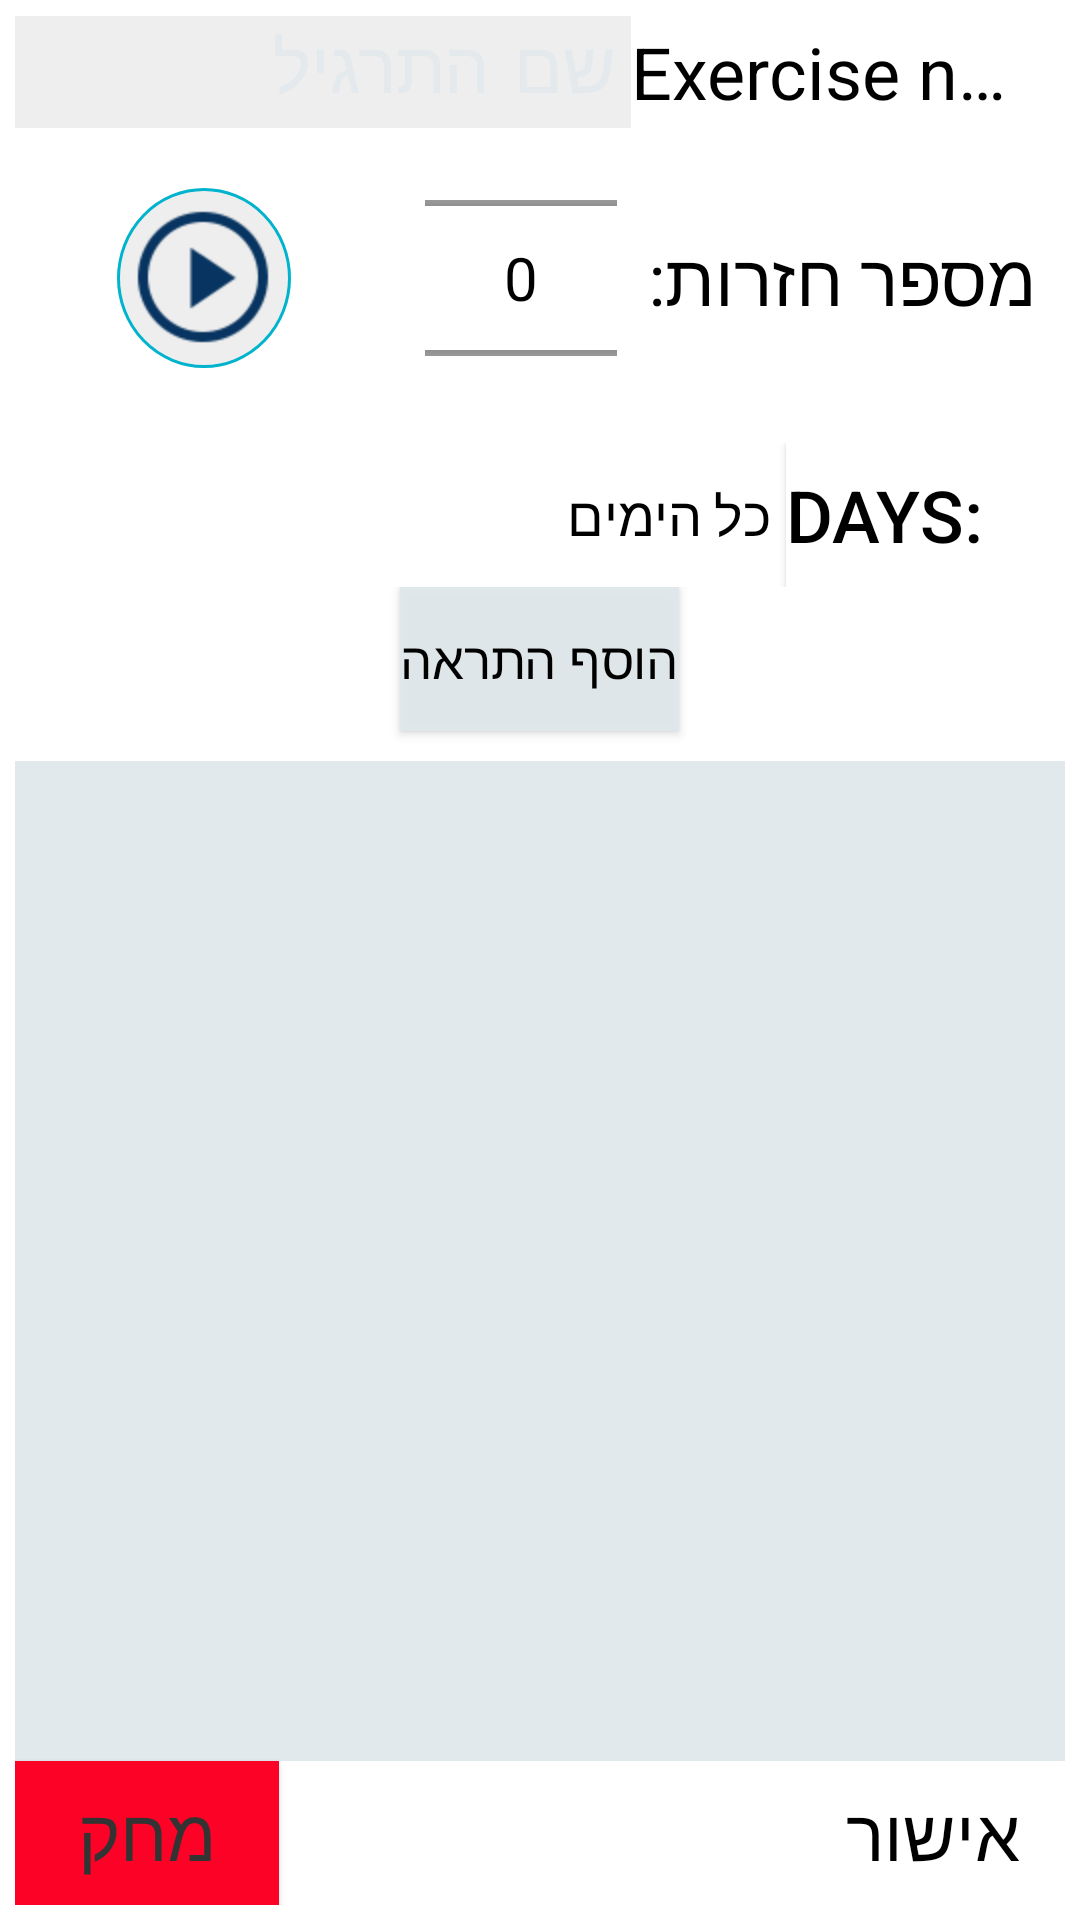

Named icons in this screenshot (1080px×1920px) and their bounding boxes, (x1, y1, x2, y2):
play circle: (117, 188, 291, 368)
